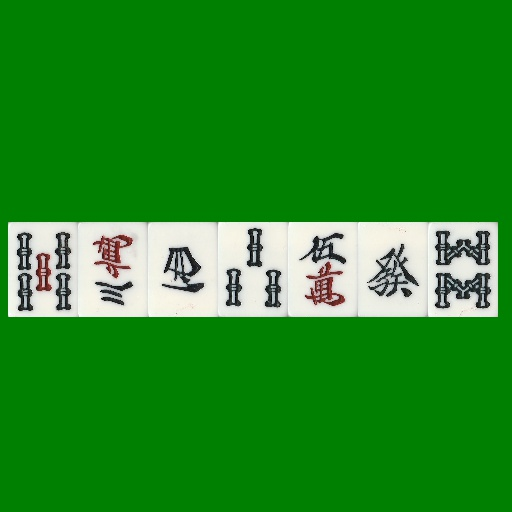3m: (78, 222, 148, 317)
3s: (218, 222, 288, 317)
5m: (288, 222, 358, 317)
5s: (8, 222, 78, 317)
8s: (428, 222, 498, 317)
hatsu: (358, 222, 428, 317)
west: (148, 222, 218, 317)
